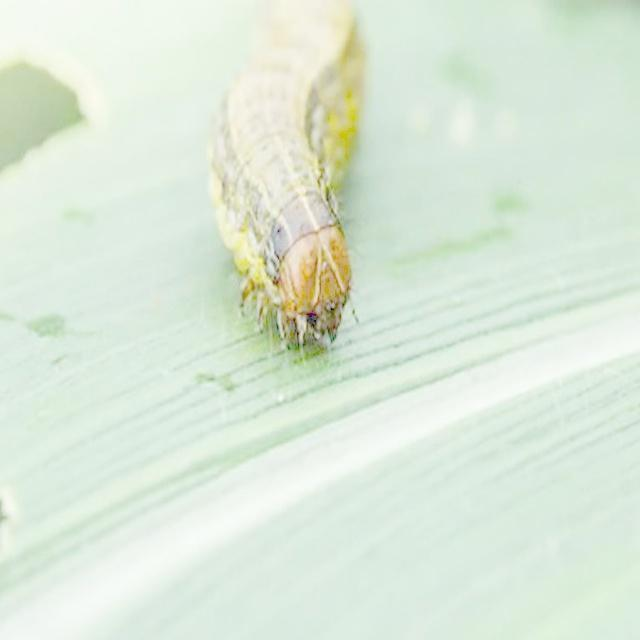gusano_cogollero: (202, 0, 364, 328)
